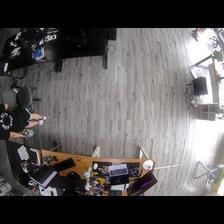normal: (1, 108, 48, 139)
